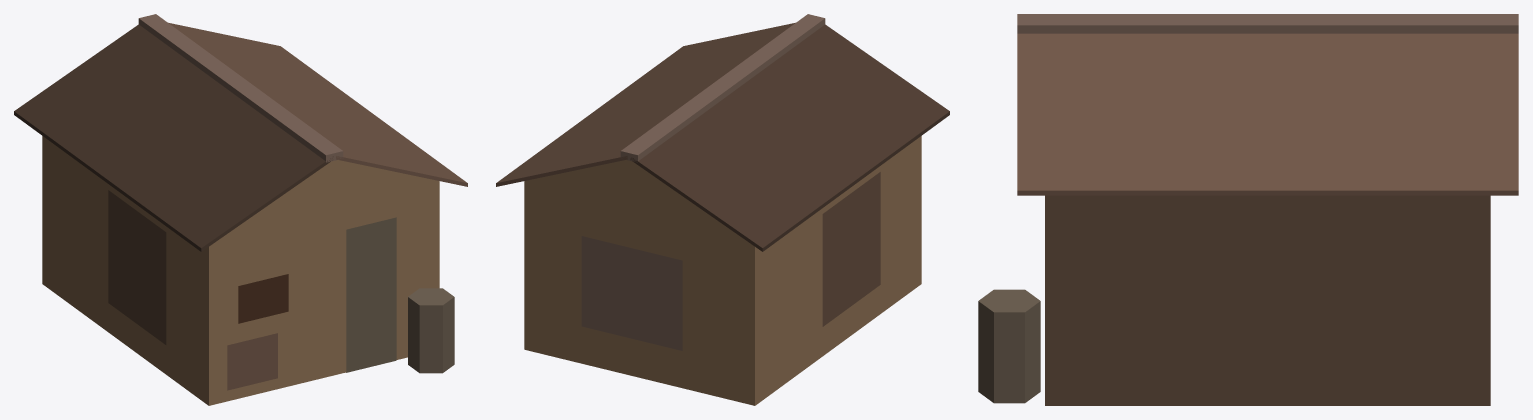
File: fill5.fbx
3 views of the same model, side by side, from view 1: azimuth 30°, elevation 25°; view 2: azimuth 150°, elevation 25°; view 3: azimuth 270°, elevation 25° (orthographic). The views are drawn at different scales.
Parts seen in each view (by area): view 1: a2014/0/fill5; view 2: a2014/0/fill5; view 3: a2014/0/fill5.
Boxes of the visible parts, x1,y1,x2,y2 form: a2014/0/fill5: (14, 14, 467, 405); a2014/0/fill5: (496, 14, 949, 405); a2014/0/fill5: (978, 14, 1518, 405).
Bounding box in the file's own units: 3.7 × 3.08 × 4.85.
